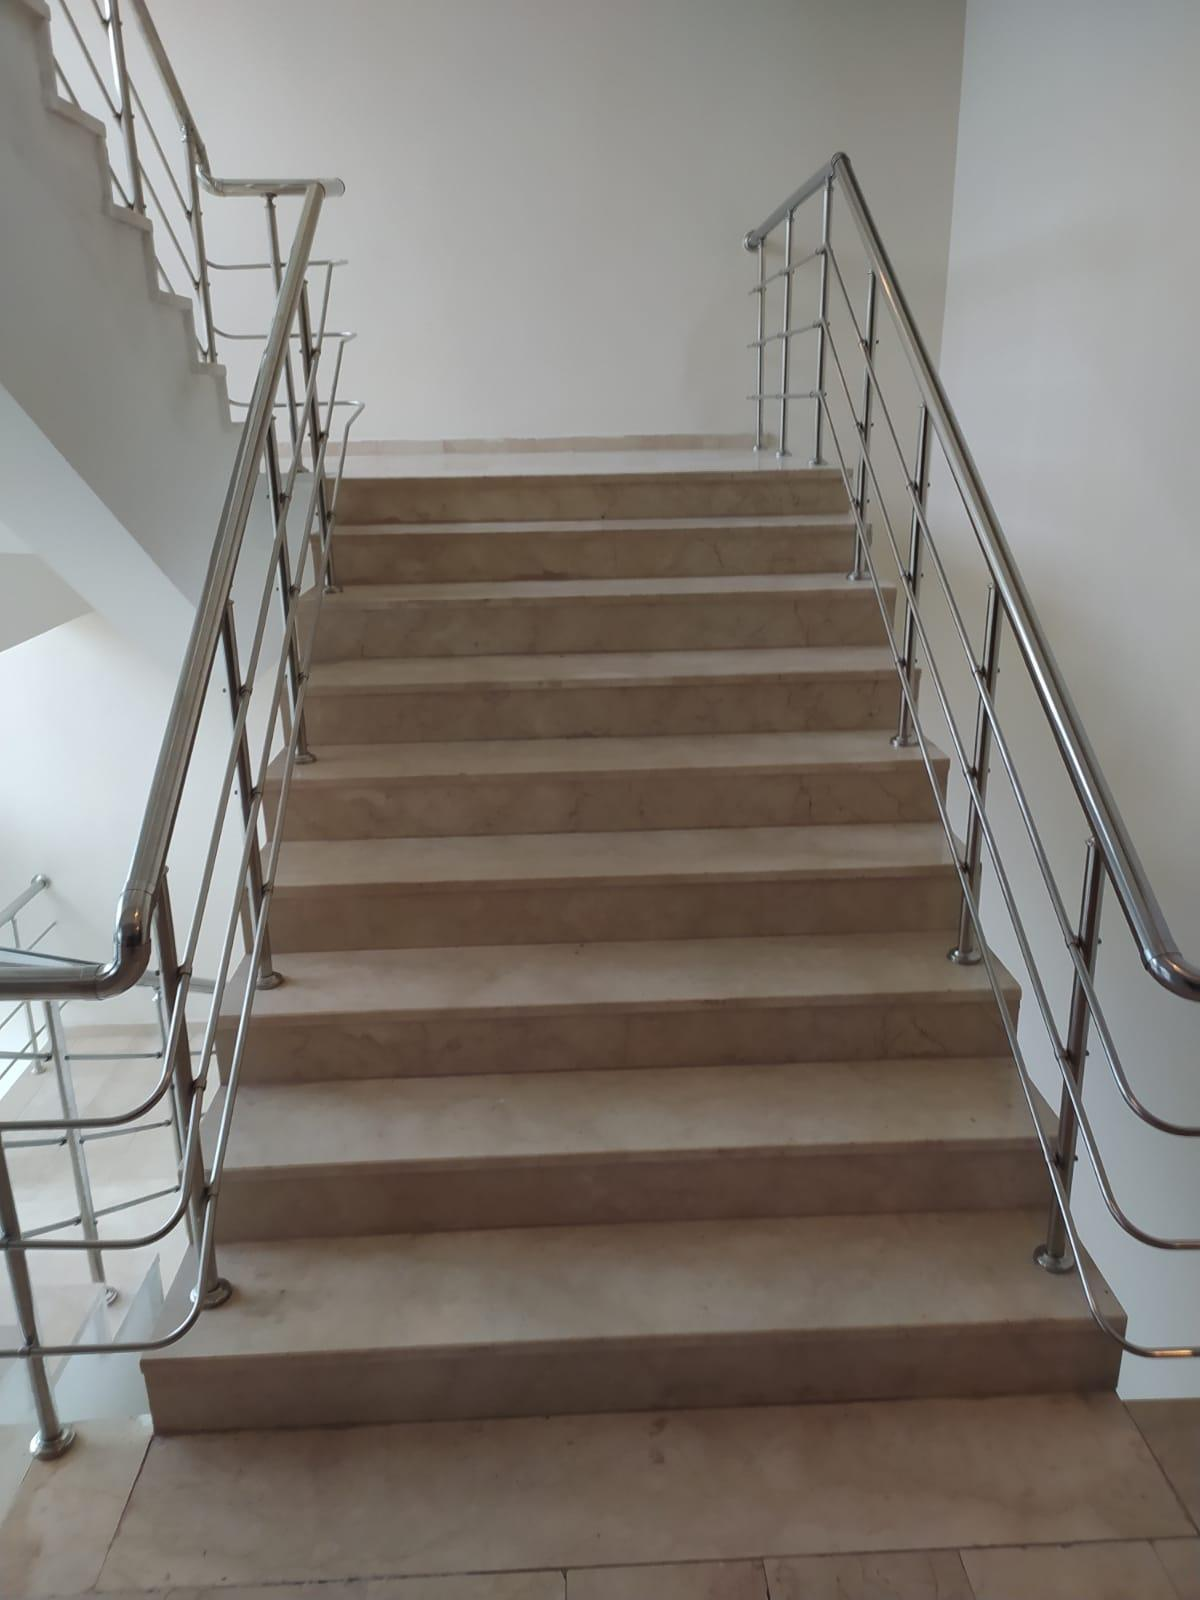Bench: (213, 479, 1136, 1407)
